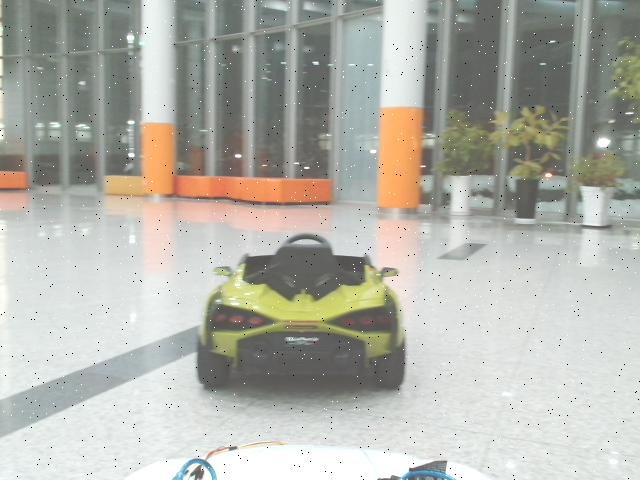car: (198, 233, 407, 394)
